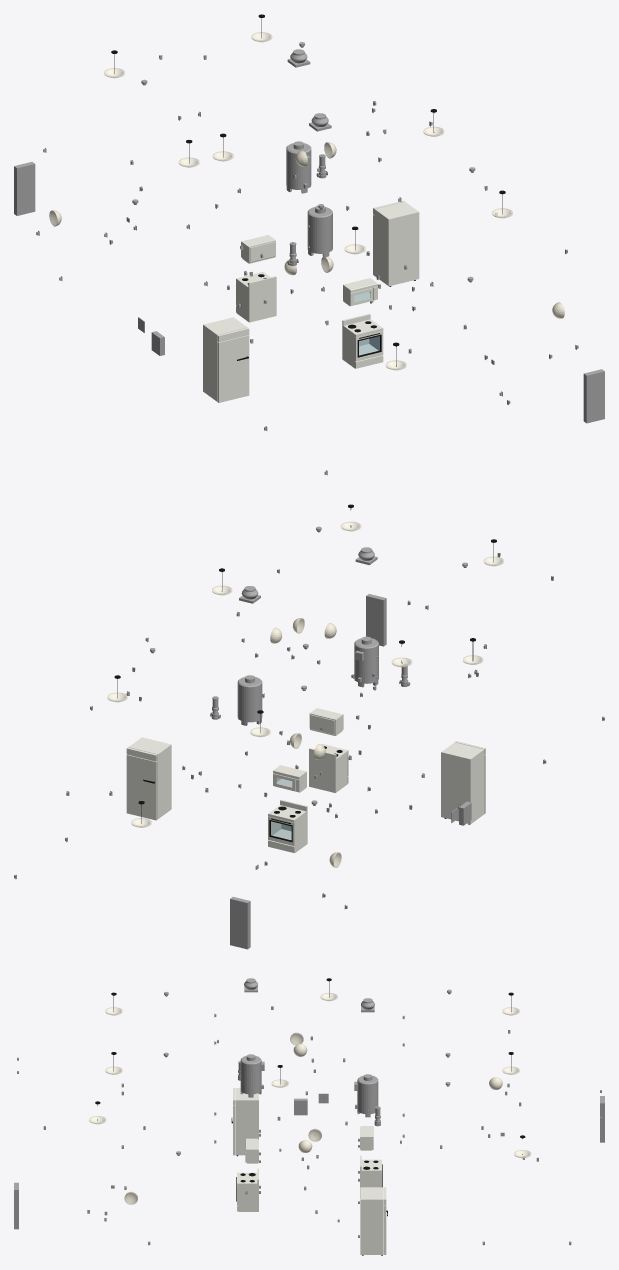
Rendered from Duplex_Electrical_20121207_dae.dae.
3 views of the same model, one above another, from view 1: azimuth 30°, elevation 25°; view 2: azimuth 150°, elevation 25°; view 3: azimuth 270°, elevation 25° (orthographic). The views are drawn at different scales.
Visible parts, largest first — view 1: 1K7eM1Qof1dOc9$mY9I4Ci, 1K7eM1Qof1dOc9$mY9I4Cj, 1K7eM1Qof1dOc9$mY9I4od, 1K7eM1Qof1dOc9$mY9I4oc, 1jQu9wkdr0iwNuem13Fl5i, 1K7eM1Qof1dOc9$mY9I4DL, 1K7eM1Qof1dOc9$mY9I4DR, 10k69mF8j4eeUjUpzCXCG7, 0BXZ22CoT4Qw2YCiUW32ZC, 0BXZ22CoT4Qw2YCiUW32ZF; view 2: 1K7eM1Qof1dOc9$mY9I4Cj, 1K7eM1Qof1dOc9$mY9I4Ci, 1K7eM1Qof1dOc9$mY9I4oc, 1K7eM1Qof1dOc9$mY9I4od, 10k69mF8j4eeUjUpzCXCG7, 1jQu9wkdr0iwNuem13Fl5i, 1K7eM1Qof1dOc9$mY9I4DR, 1K7eM1Qof1dOc9$mY9I4DL, 0BXZ22CoT4Qw2YCiUW32ZF, 0BXZ22CoT4Qw2YCiUW32ZC; view 3: 1K7eM1Qof1dOc9$mY9I4Cj, 1K7eM1Qof1dOc9$mY9I4Ci, 1K7eM1Qof1dOc9$mY9I4od, 1jQu9wkdr0iwNuem13Fl5i, 10k69mF8j4eeUjUpzCXCG7, 1K7eM1Qof1dOc9$mY9I4oc.
Part boxes in pixels (x1=…): 1K7eM1Qof1dOc9$mY9I4Ci: x1=203, y1=317, x2=249, y2=402; 1K7eM1Qof1dOc9$mY9I4Cj: x1=373, y1=200, x2=419, y2=286; 1K7eM1Qof1dOc9$mY9I4od: x1=342, y1=313, x2=383, y2=368; 1K7eM1Qof1dOc9$mY9I4oc: x1=236, y1=272, x2=276, y2=322; 1jQu9wkdr0iwNuem13Fl5i: x1=307, y1=205, x2=332, y2=257; 1K7eM1Qof1dOc9$mY9I4DL: x1=583, y1=369, x2=604, y2=423; 1K7eM1Qof1dOc9$mY9I4DR: x1=14, y1=162, x2=35, y2=215; 10k69mF8j4eeUjUpzCXCG7: x1=286, y1=141, x2=311, y2=193; 0BXZ22CoT4Qw2YCiUW32ZC: x1=241, y1=235, x2=275, y2=263; 0BXZ22CoT4Qw2YCiUW32ZF: x1=343, y1=278, x2=377, y2=306; 1K7eM1Qof1dOc9$mY9I4Cj: x1=126, y1=737, x2=171, y2=820; 1K7eM1Qof1dOc9$mY9I4Ci: x1=441, y1=741, x2=485, y2=824; 1K7eM1Qof1dOc9$mY9I4oc: x1=268, y1=799, x2=307, y2=852; 1K7eM1Qof1dOc9$mY9I4od: x1=309, y1=744, x2=348, y2=792; 10k69mF8j4eeUjUpzCXCG7: x1=237, y1=675, x2=262, y2=725; 1jQu9wkdr0iwNuem13Fl5i: x1=354, y1=636, x2=378, y2=687; 1K7eM1Qof1dOc9$mY9I4DR: x1=230, y1=897, x2=250, y2=949; 1K7eM1Qof1dOc9$mY9I4DL: x1=366, y1=594, x2=386, y2=646; 0BXZ22CoT4Qw2YCiUW32ZF: x1=309, y1=708, x2=343, y2=735; 0BXZ22CoT4Qw2YCiUW32ZC: x1=273, y1=765, x2=306, y2=792; 1K7eM1Qof1dOc9$mY9I4Cj: x1=360, y1=1187, x2=387, y2=1255; 1K7eM1Qof1dOc9$mY9I4Ci: x1=231, y1=1088, x2=258, y2=1156; 1K7eM1Qof1dOc9$mY9I4od: x1=236, y1=1168, x2=258, y2=1211; 1jQu9wkdr0iwNuem13Fl5i: x1=240, y1=1054, x2=264, y2=1097; 10k69mF8j4eeUjUpzCXCG7: x1=354, y1=1074, x2=378, y2=1117; 1K7eM1Qof1dOc9$mY9I4oc: x1=360, y1=1155, x2=382, y2=1198.
Size of the model in its own units: 8.48 by 17.26 by 6.76.
